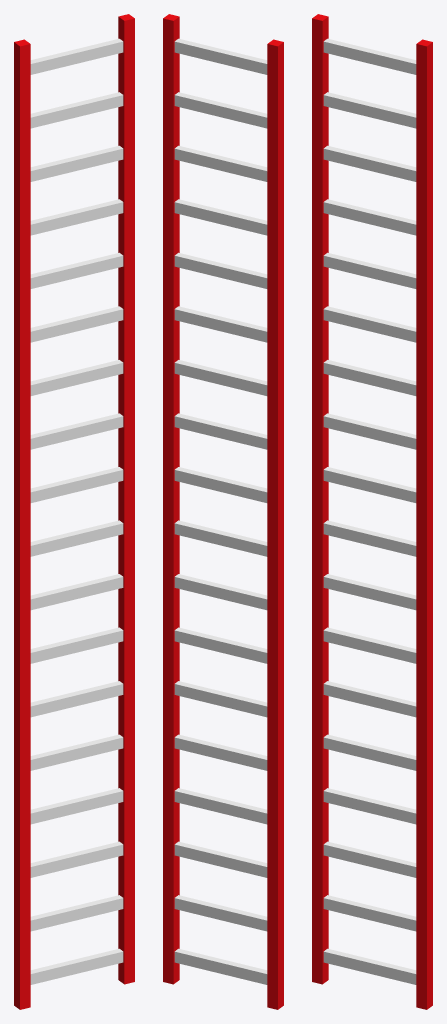
Rendered from Low_Poly_Ladder_01_Tall.obj.
The picture shows the model from 3 angles, left to right: view 1: azimuth 30°, elevation 25°; view 2: azimuth 150°, elevation 25°; view 3: azimuth 330°, elevation 25°; orthographic projection.
Parts seen in each view (by area): view 1: Low_Poly_Ladder_01_Tall_Cube.001; view 2: Low_Poly_Ladder_01_Tall_Cube.001; view 3: Low_Poly_Ladder_01_Tall_Cube.001.
Part boxes in pixels (<box>): Low_Poly_Ladder_01_Tall_Cube.001: <box>14,14,134,1009</box>; Low_Poly_Ladder_01_Tall_Cube.001: <box>163,14,283,1009</box>; Low_Poly_Ladder_01_Tall_Cube.001: <box>312,14,432,1009</box>.
Size of the model in its own units: 2.2 by 17.64 by 0.2.
